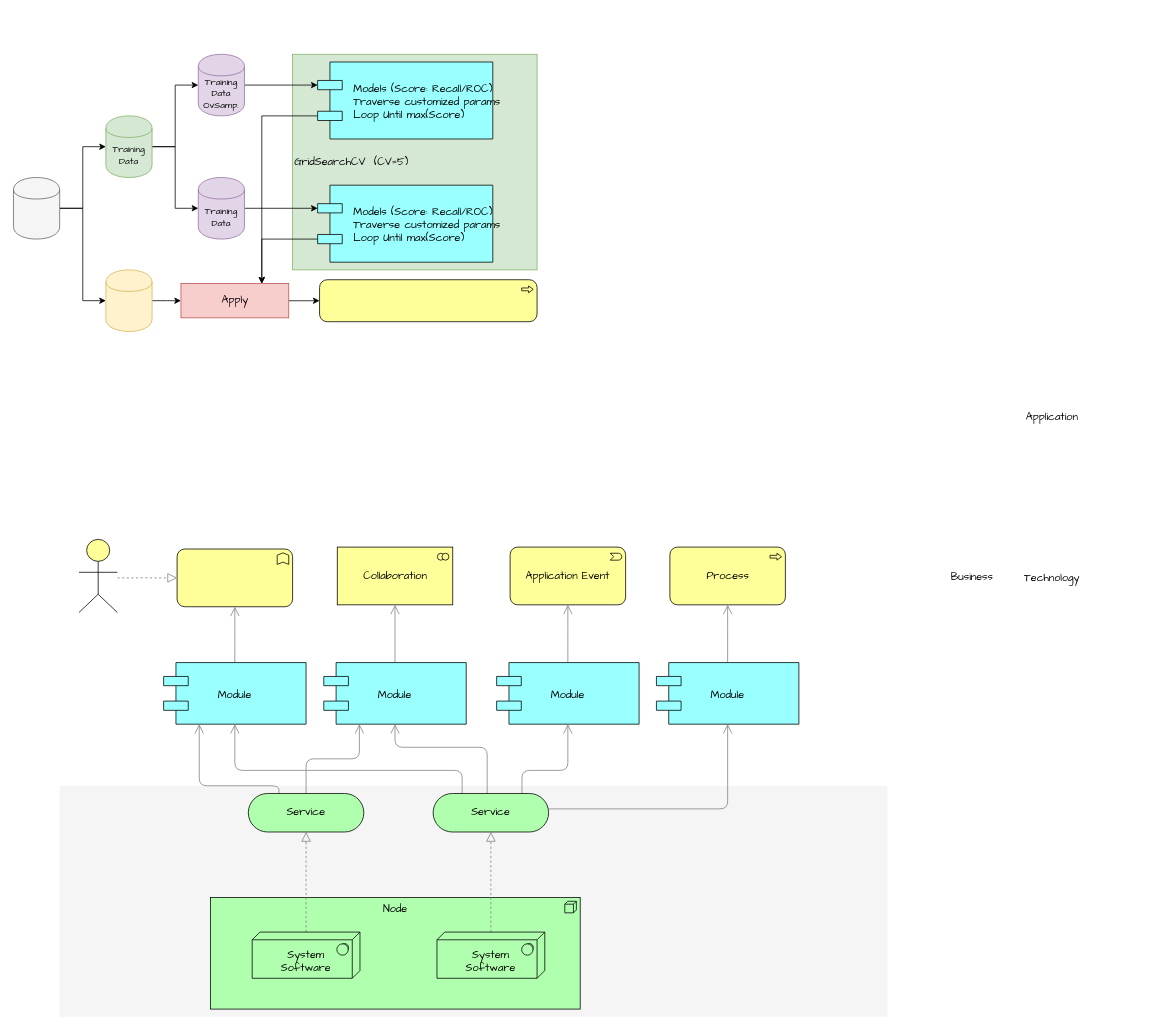
The diagram is 1158 pixels wide and 1029 high, and some of its shapes have lost their labels. Each missing label, with the centre of its shape:
"Compare Performance: Percision, Recall, Roc score......" belongs at (428,300).
"Data" belongs at (36,208).
"Function" belongs at (234,577).
"Test Data" belongs at (128,300).
